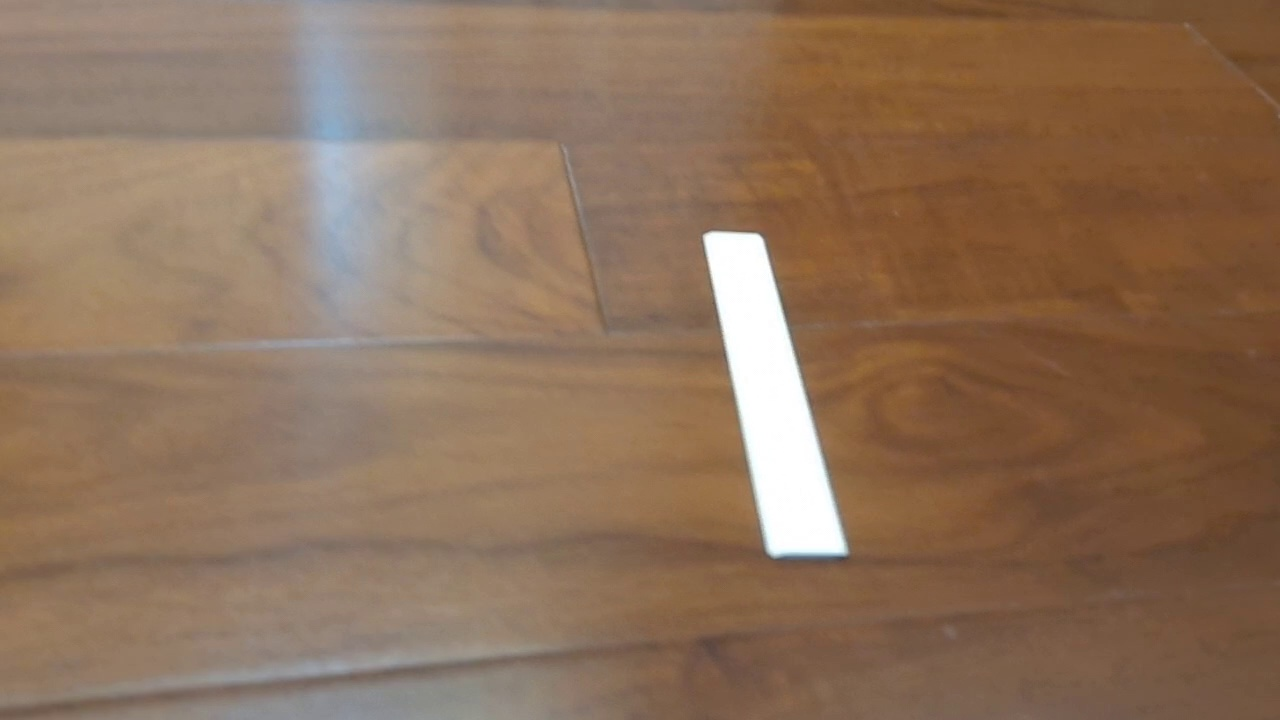ruler: (701, 229, 852, 563)
